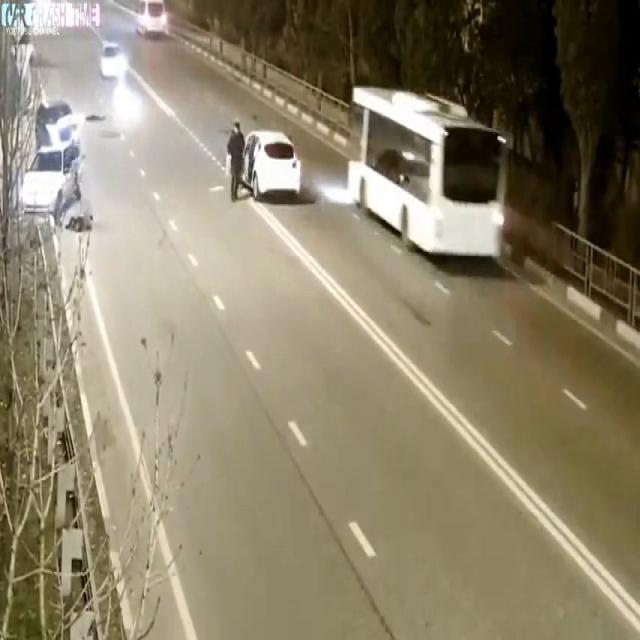Accident: (10, 75, 92, 250)
